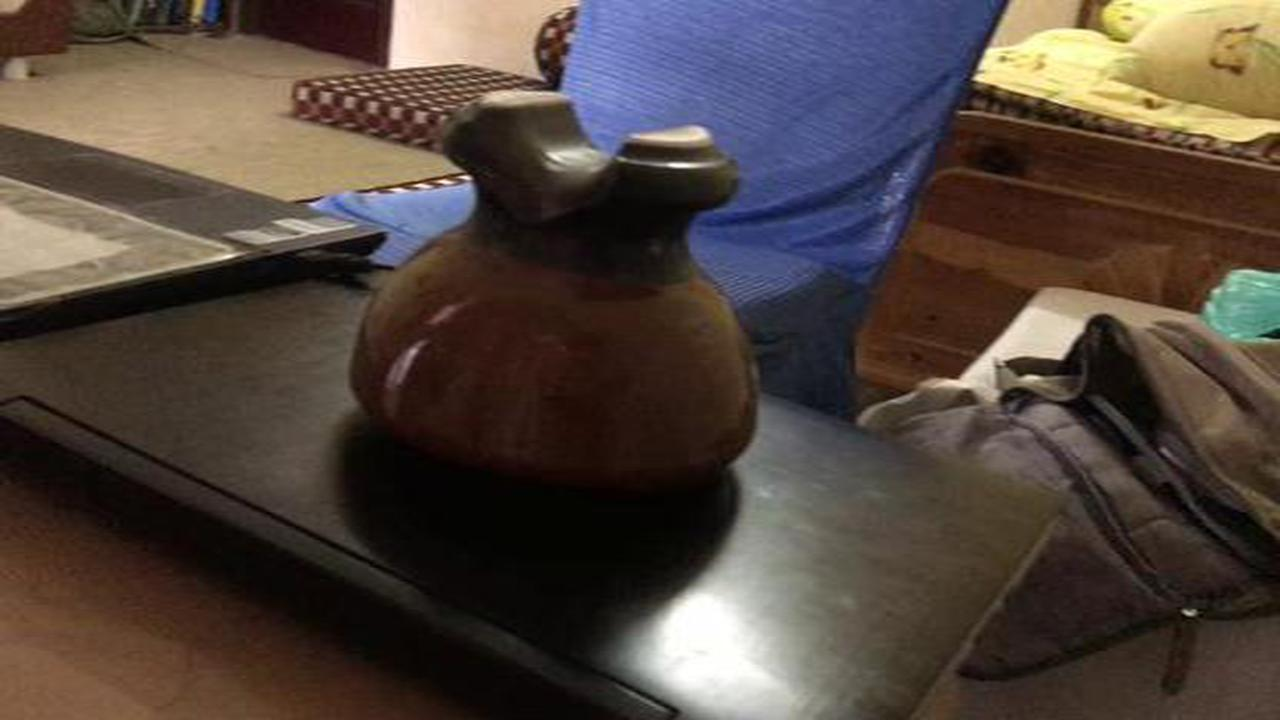insulator_pin: (339, 78, 776, 509)
